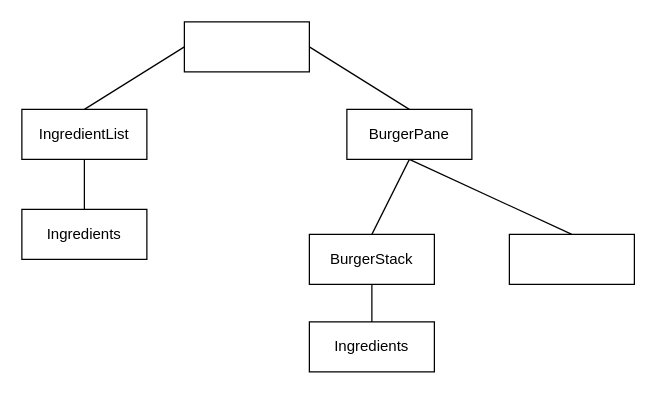
Image size: 656x394. Some labels were removed from this diagram. Each missing label, with the box of its shape:
App: (183, 21, 309, 72)
Clear: (508, 233, 634, 284)
